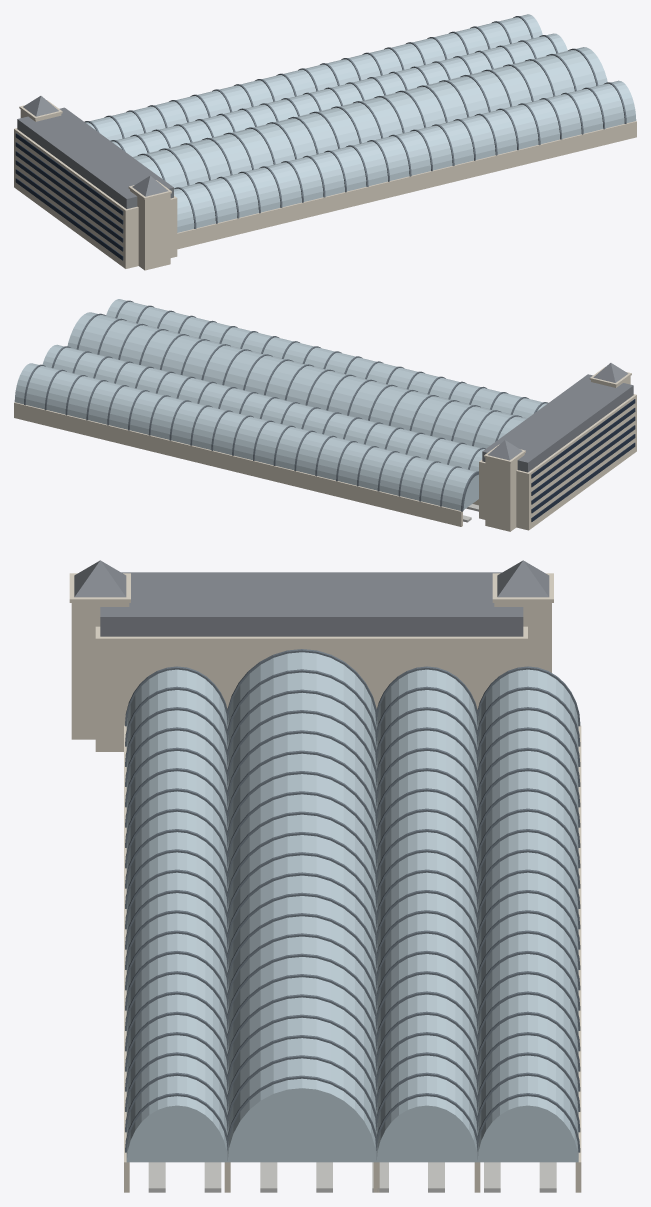
The model's file is terminal_paddington.glb.
3 views of the same model, one above another, from view 1: azimuth 30°, elevation 25°; view 2: azimuth 150°, elevation 25°; view 3: azimuth 270°, elevation 25° (orthographic). The views are drawn at different scales.
Visible parts, largest first — view 1: paddington; view 2: paddington; view 3: paddington.
Part boxes in pixels (x1,y1,x2,y2): paddington: (14,14,636,270); paddington: (14,299,636,531); paddington: (69,560,581,1192).
Bounding box in the file's own units: 241 × 38.4 × 106.
